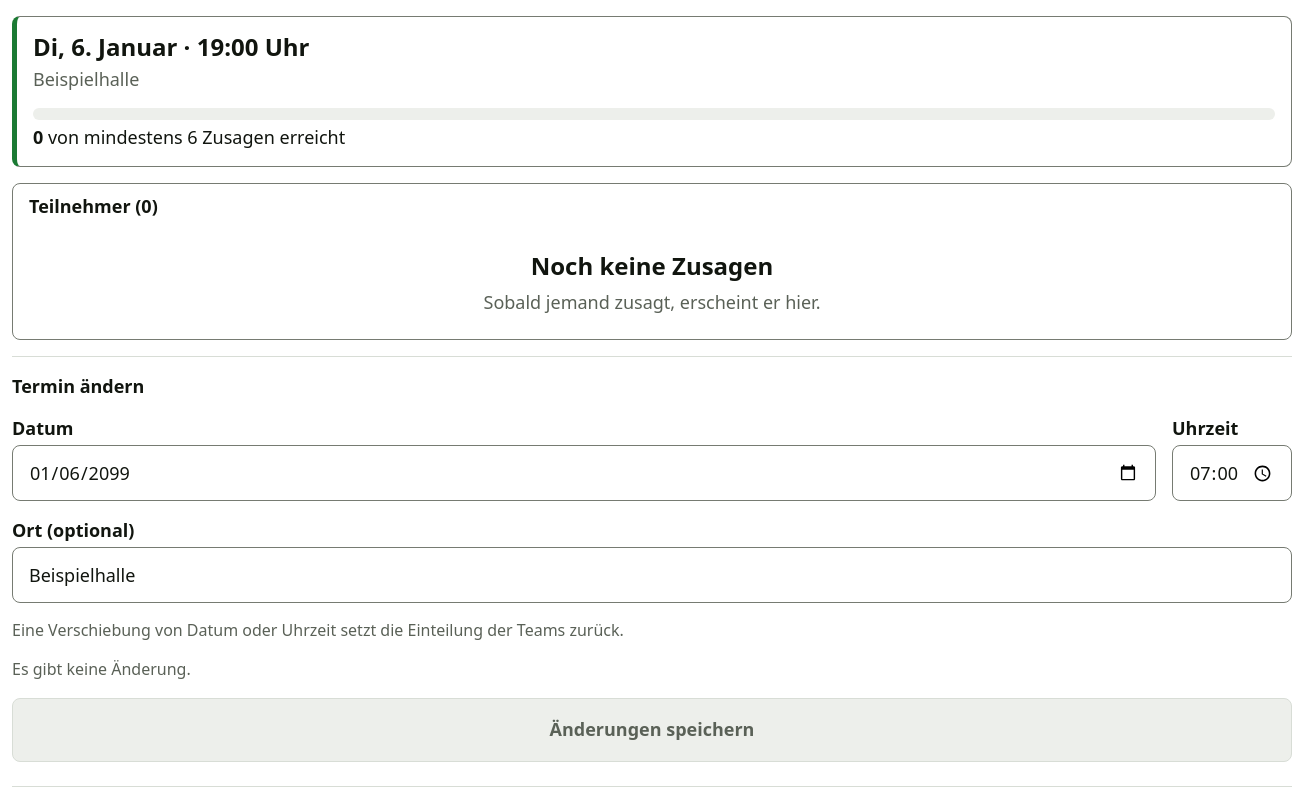
Test: AdminTerminDetail – Termin ändern › ein geleerter Ort geht als "" hinaus, nicht als null
This screenshot has width=1304, height=800.
Clear the field with test id "termin-ort" at [652, 575], box [12, 547, 1292, 603]
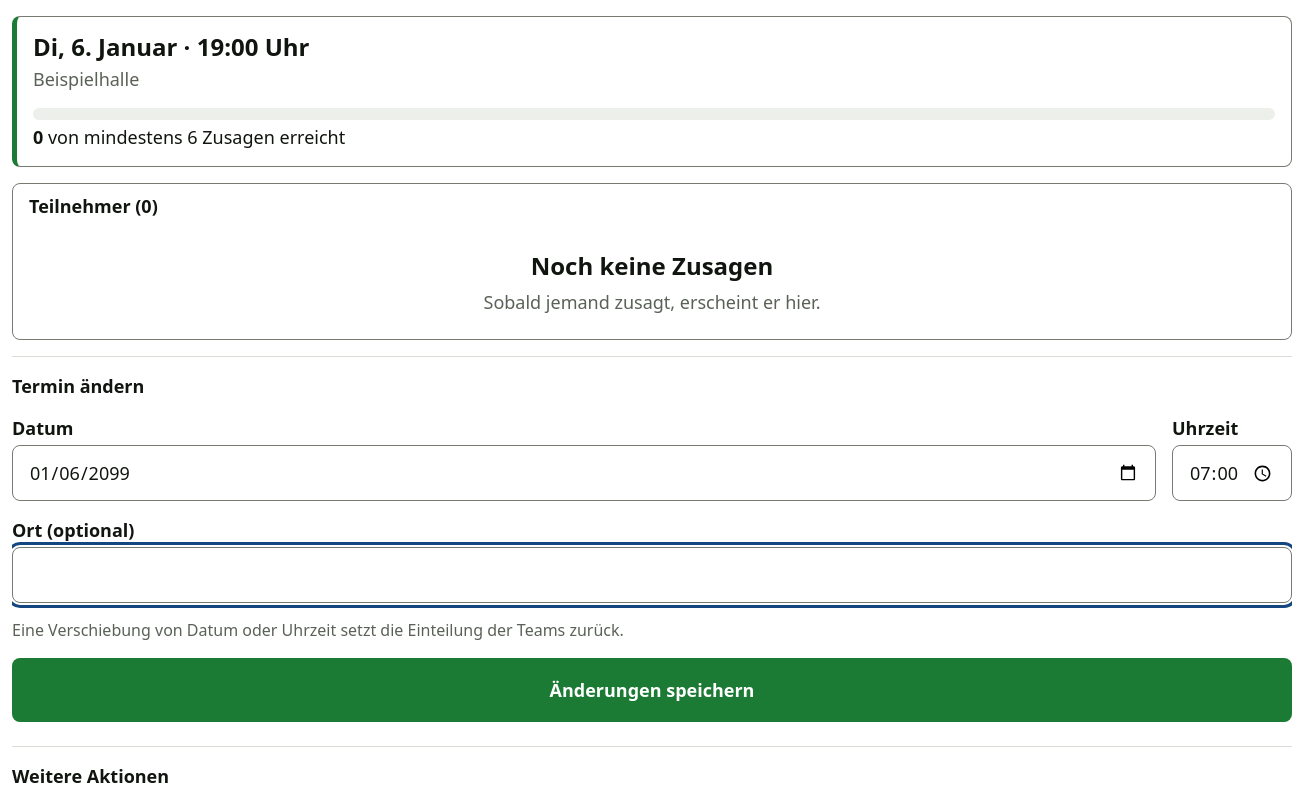
Click the button with test id "admin-termin-speichern".
click(652, 690)  # box [12, 658, 1292, 722]
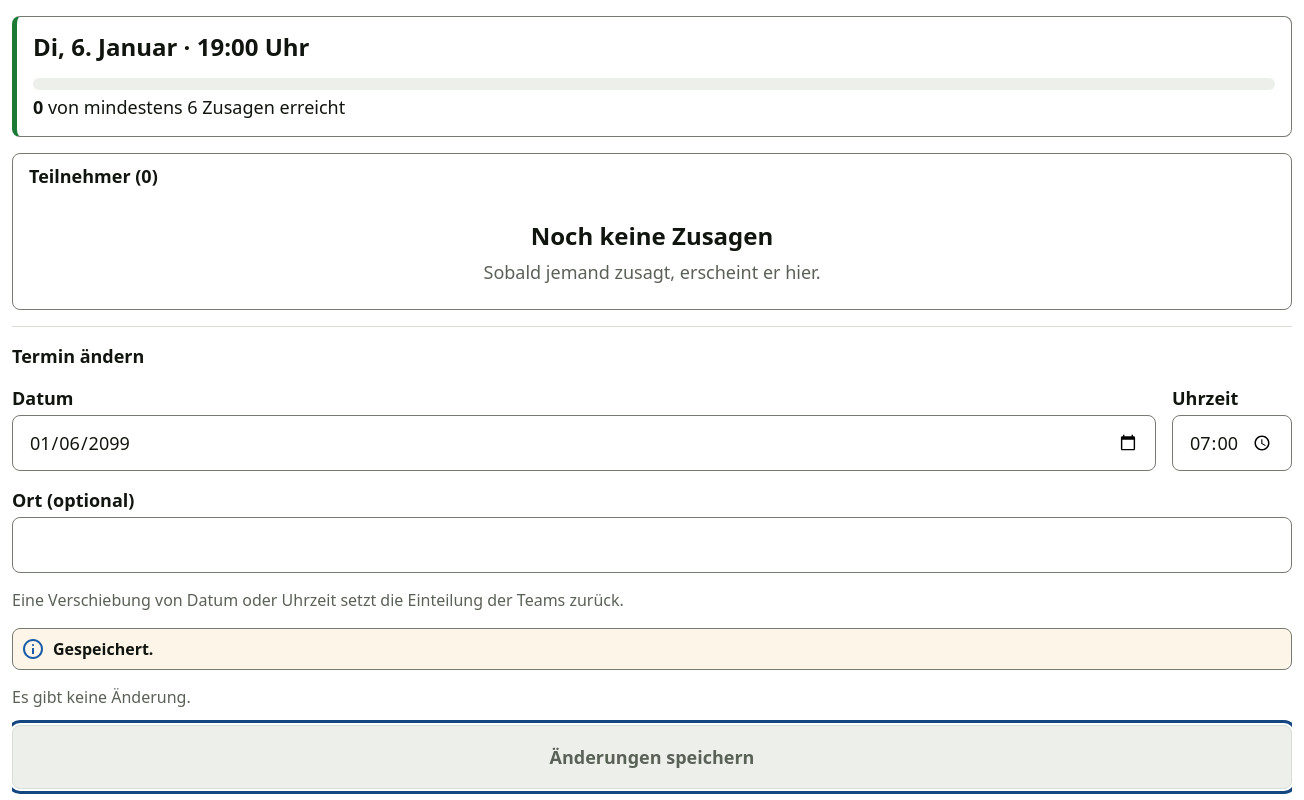
Now the message "Gespeichert." is shown, box [12, 628, 1292, 670]
